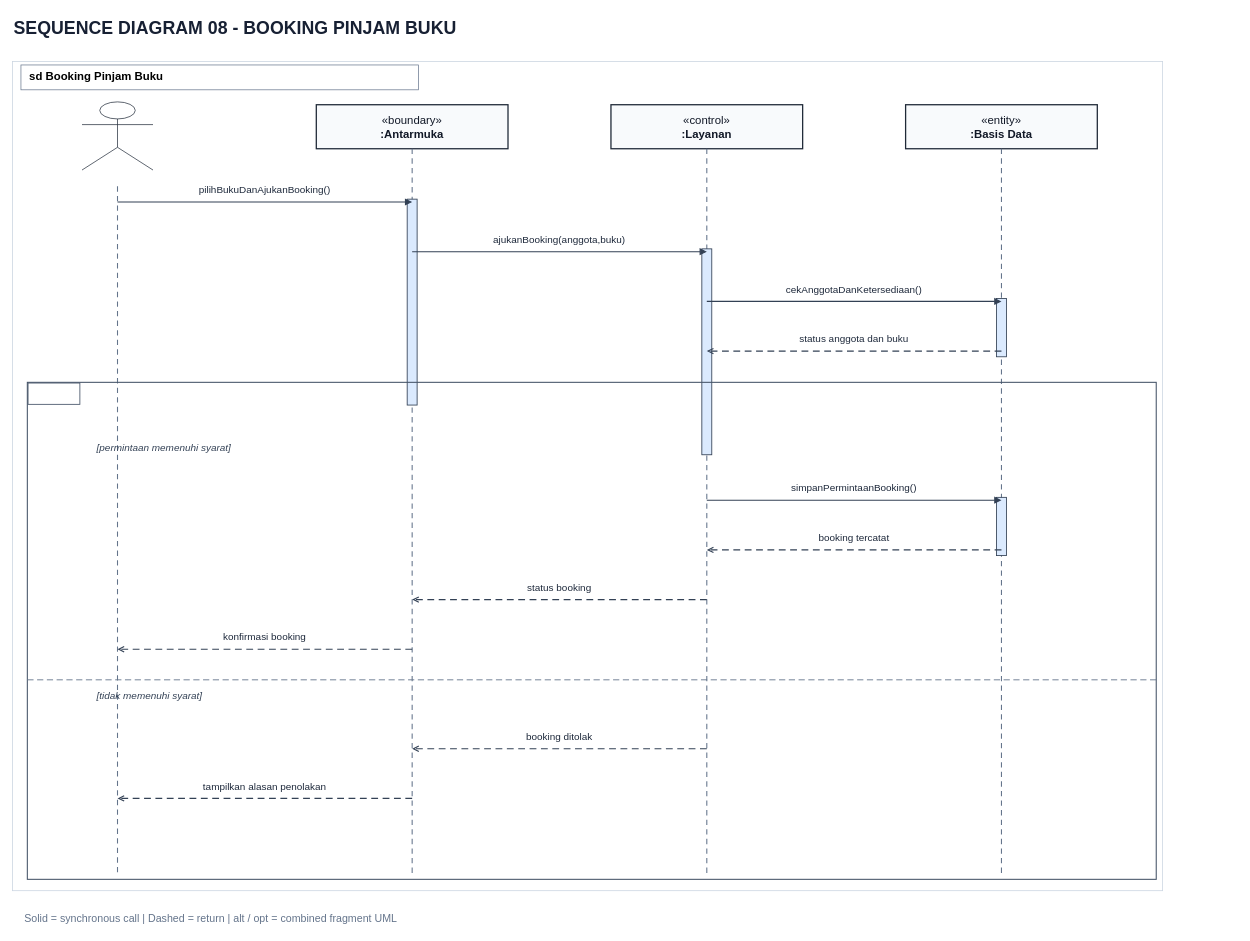
Image size: 1250x941. Some labels were removed from this diagram. Here are the shapes that lost their labels. From the top down, the centre of each, then its label:
At (x=117, y=135): "Anggota".
At (x=53, y=393): "alt".
